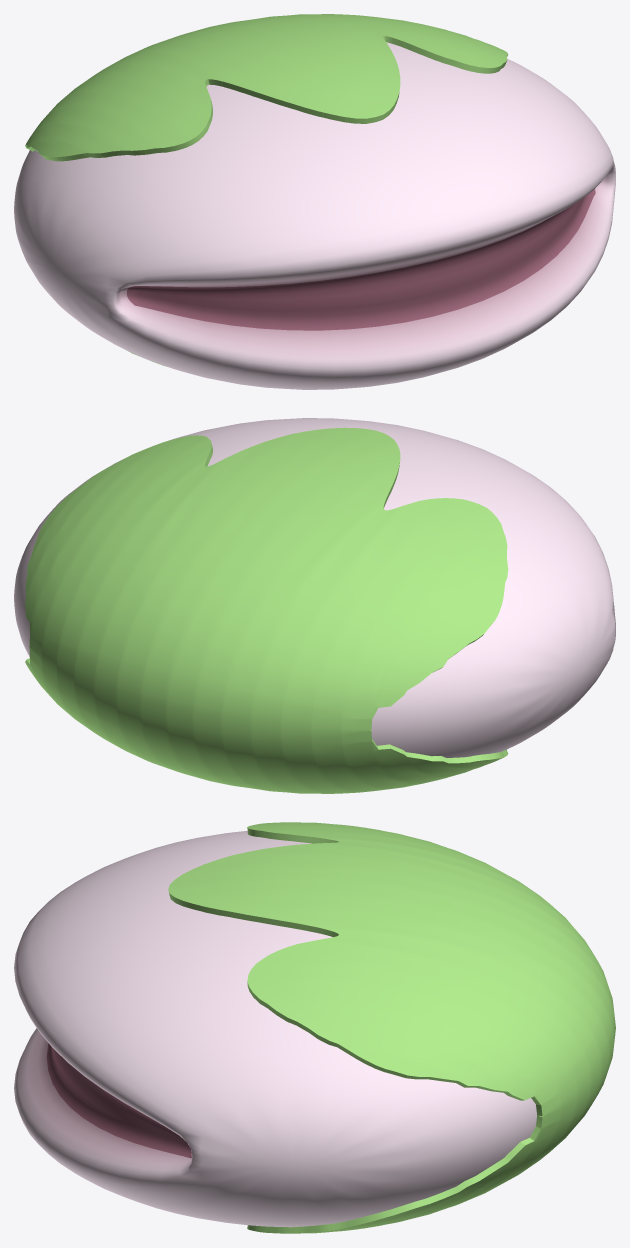
Rendered from kashiwamochi.glb.
3 renders of one model, top to bottom at view 1: azimuth 30°, elevation 25°; view 2: azimuth 150°, elevation 25°; view 3: azimuth 270°, elevation 25°, orthographic. The views are drawn at different scales.
Visible parts, largest first — view 1: 球, 平面; view 2: 平面, 球; view 3: 球, 平面.
Boxes of the visible parts, x1,y1,x2,y2 form: 球: (14,42,615,389); 平面: (25,14,508,365); 平面: (25,427,508,793); 球: (14,418,615,757); 球: (14,830,536,1227); 平面: (168,822,615,1233).
Bounding box in the file's own units: 0.9831 × 0.4934 × 0.8999.
